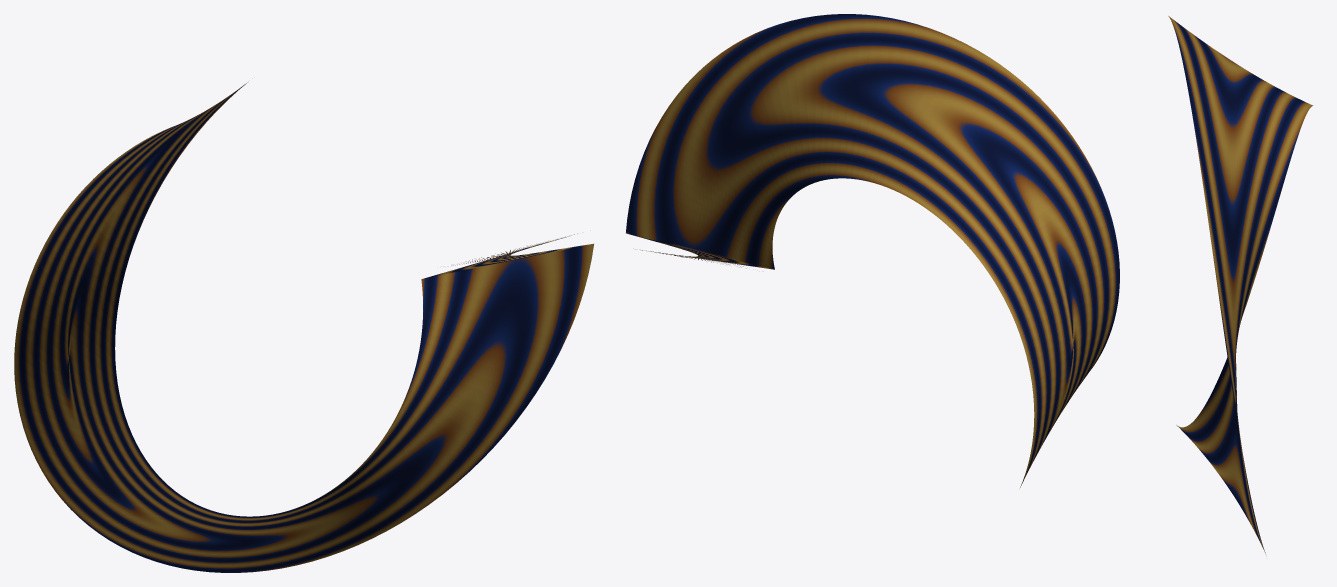
File: mobius-copper-c2.glb
The picture shows the model from 3 angles, left to right: view 1: azimuth 30°, elevation 25°; view 2: azimuth 150°, elevation 25°; view 3: azimuth 270°, elevation 25°; orthographic projection. The views are drawn at different scales.
Parts seen in each view (by area): view 1: world; view 2: world; view 3: world.
Part boxes in pixels (x1,y1,x2,y2): world: (14,82,593,572); world: (626,14,1119,487); world: (1168,16,1313,553).
Bounding box in the file's own units: 2.42 × 2.58 × 0.8.
Materials: 1 (1 with a texture image).
